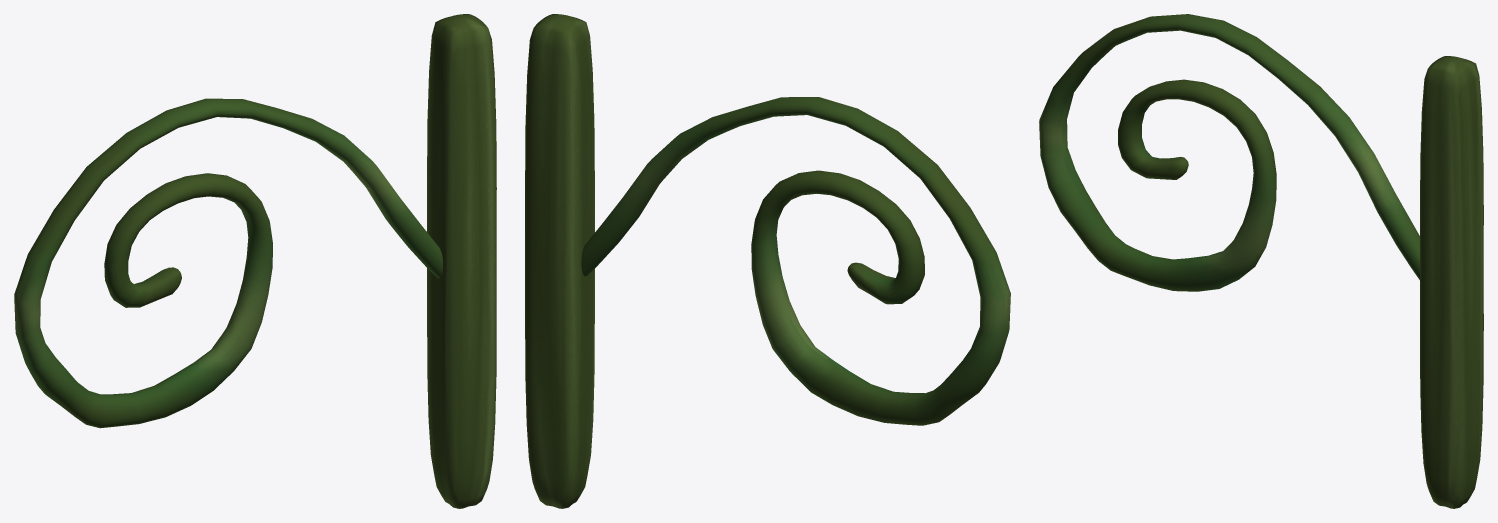
File: FruitRailing2.fbx
3 views of the same model, side by side, from view 1: azimuth 30°, elevation 25°; view 2: azimuth 150°, elevation 25°; view 3: azimuth 330°, elevation 25° (orthographic). The views are drawn at different scales.
Parts seen in each view (by area): view 1: FruitRailing2; view 2: FruitRailing2; view 3: FruitRailing2.
Part boxes in pixels (box(x1,y1,x2,y2)): FruitRailing2: box(14, 14, 496, 508); FruitRailing2: box(525, 14, 1010, 508); FruitRailing2: box(1039, 14, 1483, 508).
Size of the model in its own units: 157 by 155 by 17.23.
1 material, 1 textured.
